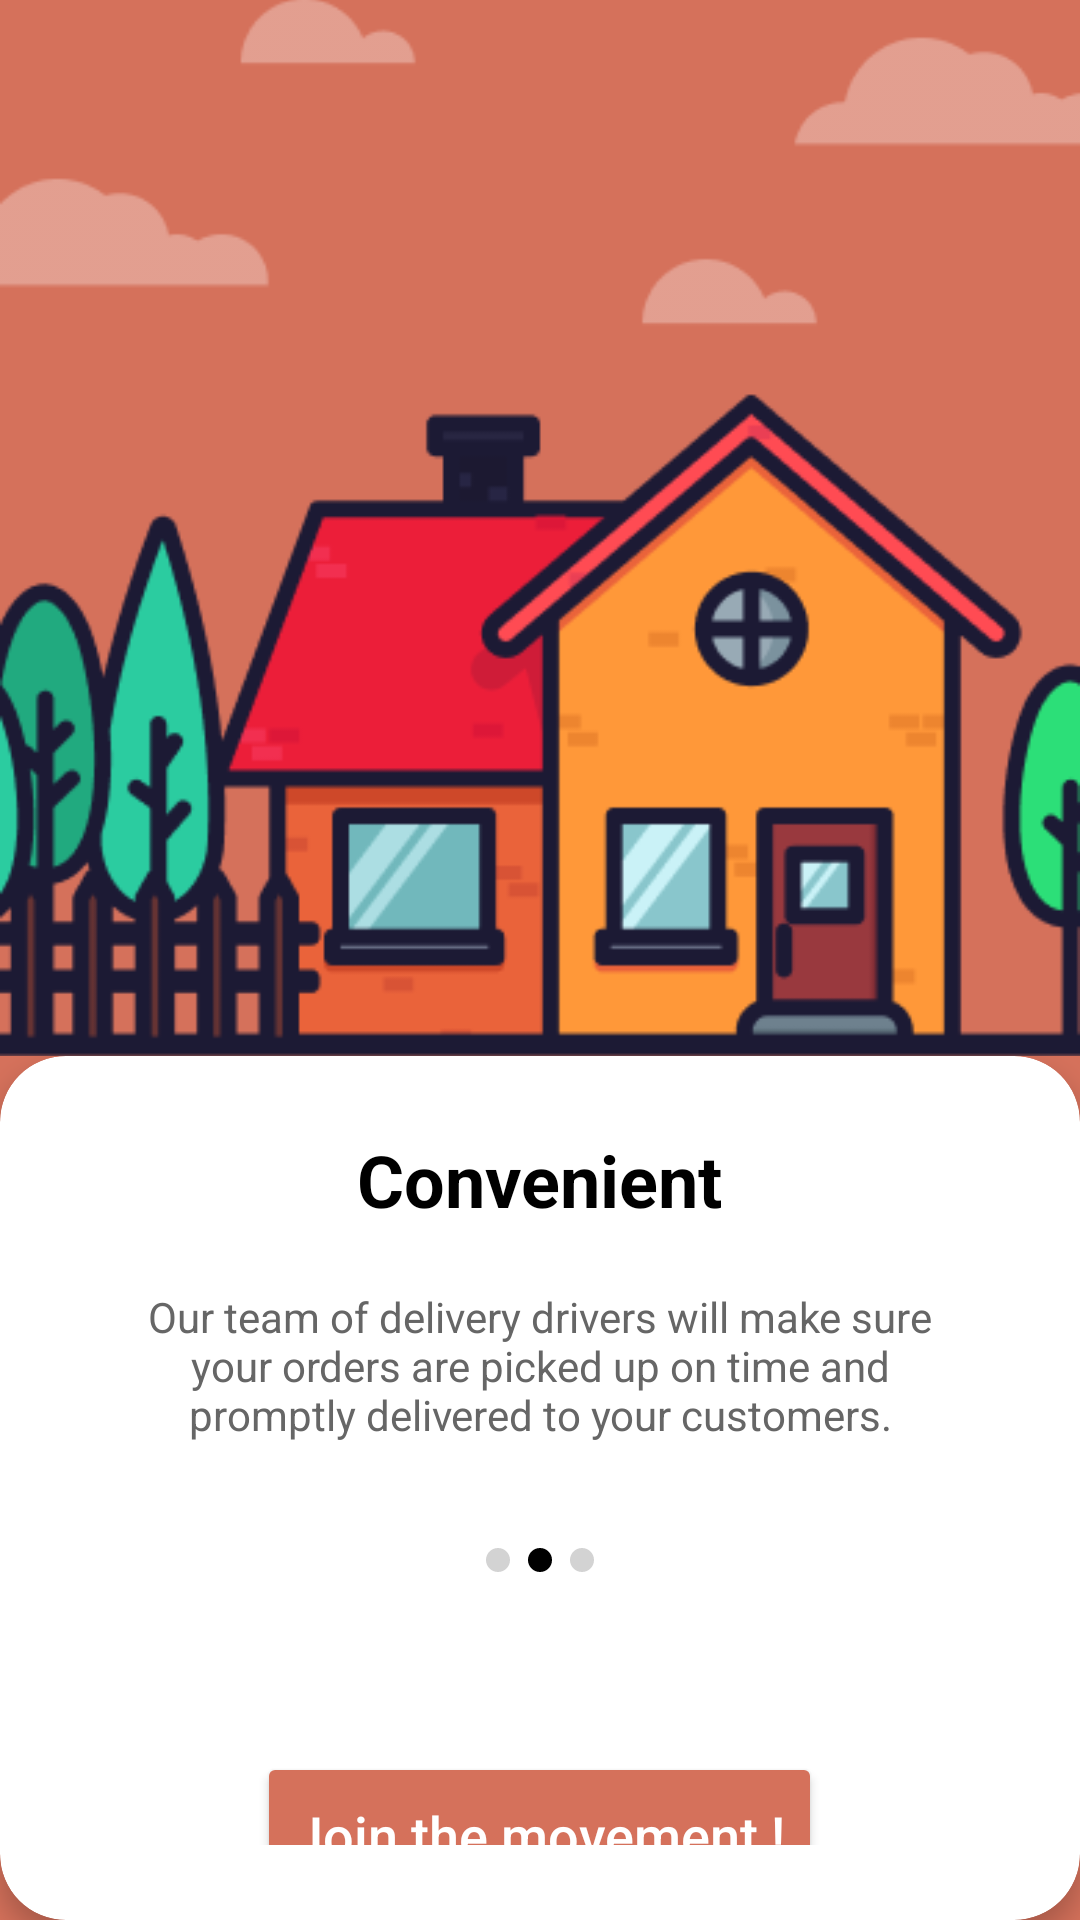

Icons on this 1080 × 1920 Android screen, each with the point to tap as (x=x, y=y):
dot: (x=540, y=1560)
